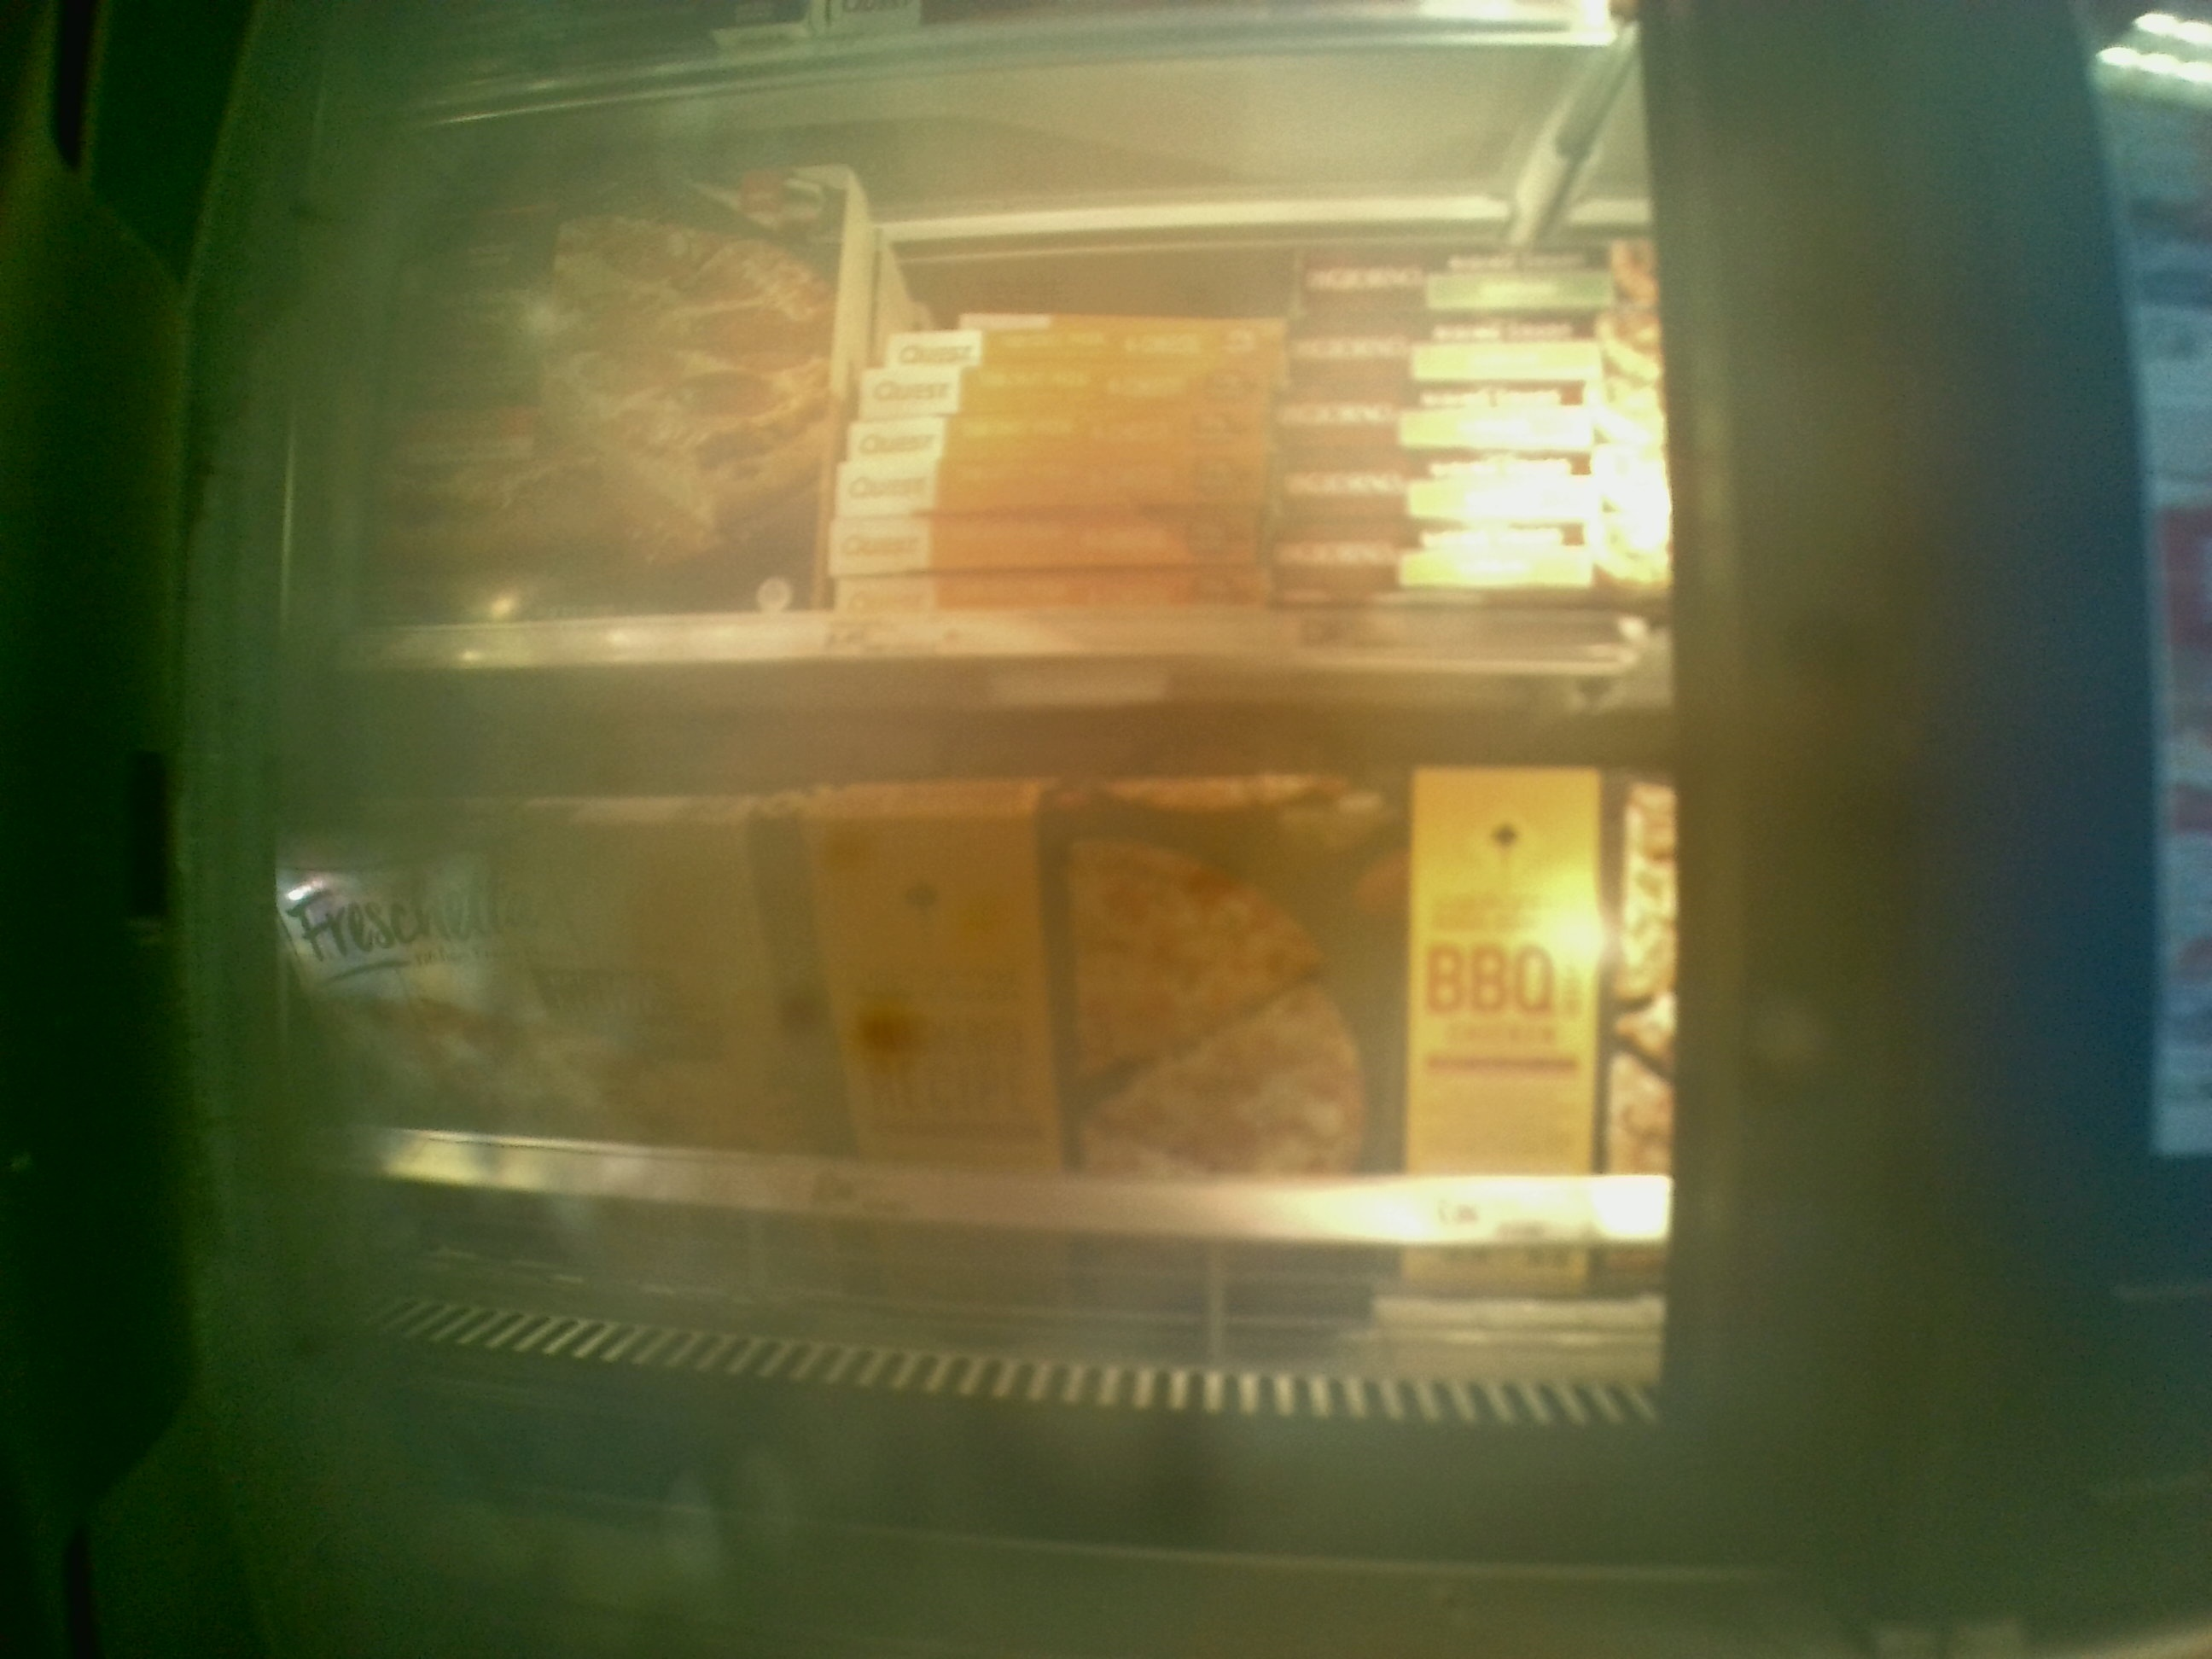pizza: (819, 786, 1400, 1169), (397, 174, 827, 612), (286, 793, 806, 1134), (1289, 380, 1585, 455), (1282, 530, 1606, 596), (1299, 249, 1623, 310), (1280, 458, 1595, 516), (1294, 315, 1602, 369), (859, 369, 1254, 410), (841, 521, 1273, 556), (848, 425, 1245, 458), (838, 465, 1249, 497), (888, 340, 1280, 366), (843, 572, 1261, 591)
